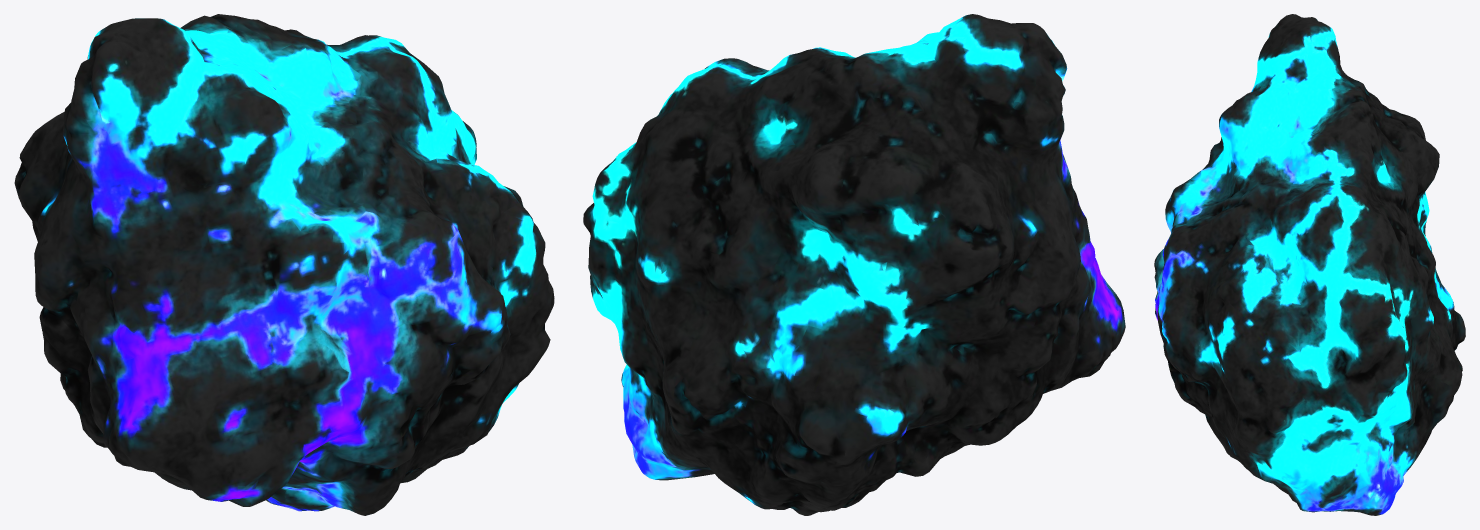
Rendered from Stone_Comp_v2.glb.
The picture shows the model from 3 angles, left to right: view 1: azimuth 30°, elevation 25°; view 2: azimuth 150°, elevation 25°; view 3: azimuth 270°, elevation 25°; orthographic projection. The views are drawn at different scales.
Parts seen in each view (by area): view 1: Cube.003; view 2: Cube.003; view 3: Cube.003.
Boxes of the visible parts, left/top/right/bottom form: Cube.003: left=14, top=14, right=554, bottom=515; Cube.003: left=583, top=14, right=1125, bottom=515; Cube.003: left=1154, top=14, right=1465, bottom=515.
Size of the model in its own units: 2.05 by 2.15 by 1.56.
Materials: 1 (1 with a texture image).
